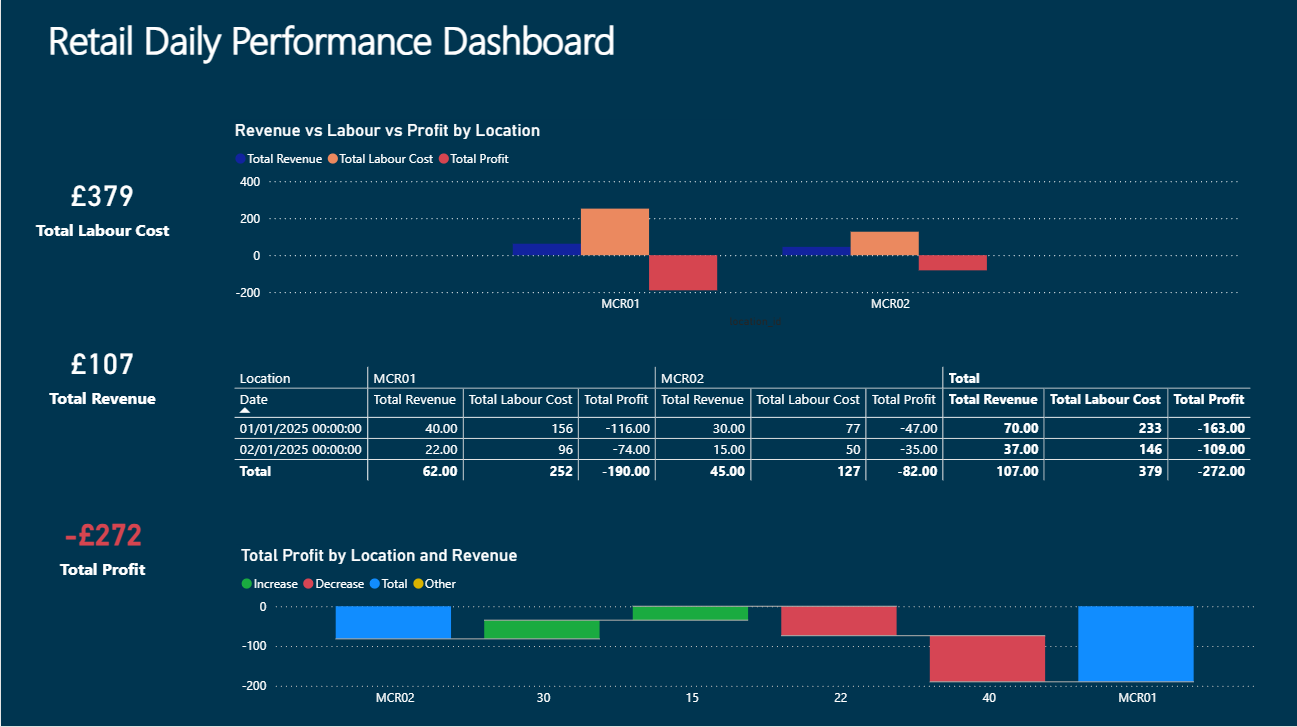

The dashboard page shown, as its layout file describes it:
{"tool":"powerbi","page":{"name":"Hospitality Data","canvas":[1280,720],"ordinal":0},"visuals":[{"type":"card","fields":{"Values":["Sum(gold_daily_metrics.total_revenue)"]},"box":[26.9,79.2,190.8,149.8],"z":0},{"type":"card","fields":{"Values":["Sum(gold_daily_metrics.total_labour_cost)"]},"box":[26.9,229,190.8,149.8],"z":1000},{"type":"card","fields":{"Values":["Sum(gold_daily_metrics.profit)"]},"box":[26.9,435.3,190.8,149.8],"z":2000},{"type":"textbox","box":[26.9,0,742.1,59.4],"z":3000},{"type":"clusteredColumnChart","title":"Revenue vs Labour vs Profit by Location","fields":{"Category":["gold_daily_metrics.location_id"],"Y":["Sum(gold_daily_metrics.total_revenue)","Sum(gold_daily_metrics.total_labour_cost)","Sum(gold_daily_metrics.profit)"]},"box":[230.3,113.2,981.6,165.8],"z":4000},{"type":"pivotTable","fields":{"Rows":["gold_daily_metrics.date"],"Columns":["gold_daily_metrics.location_id"],"Values":["Sum(gold_daily_metrics.total_revenue)","Sum(gold_daily_metrics.total_labour_cost)","Sum(gold_daily_metrics.profit)"]},"box":[230.3,317.1,994.8,161.8],"z":5000},{"type":"waterfallChart","title":"Total Profit by Location and Revenue","fields":{"Category":["gold_daily_metrics.location_id"],"Breakdown":["gold_daily_metrics.total_revenue"],"Y":["Sum(gold_daily_metrics.profit)"]},"box":[217.1,529,981.6,169.7],"z":6000}]}

Visuals, with their boxes in screenshot pixels (x1, y1, x2, y2), scaled from the page's 1280x720 canvas onto the 1297x727 screenshot:
card - Sum(gold_daily_metrics.total_revenue): [27,80,221,231]
card - Sum(gold_daily_metrics.total_labour_cost): [27,231,221,382]
card - Sum(gold_daily_metrics.profit): [27,440,221,591]
textbox: [27,0,779,60]
"Revenue vs Labour vs Profit by Location" clusteredColumnChart: [233,114,1228,282]
pivotTable - gold_daily_metrics.date x gold_daily_metrics.location_id: [233,320,1241,484]
"Total Profit by Location and Revenue" waterfallChart: [220,534,1215,705]
